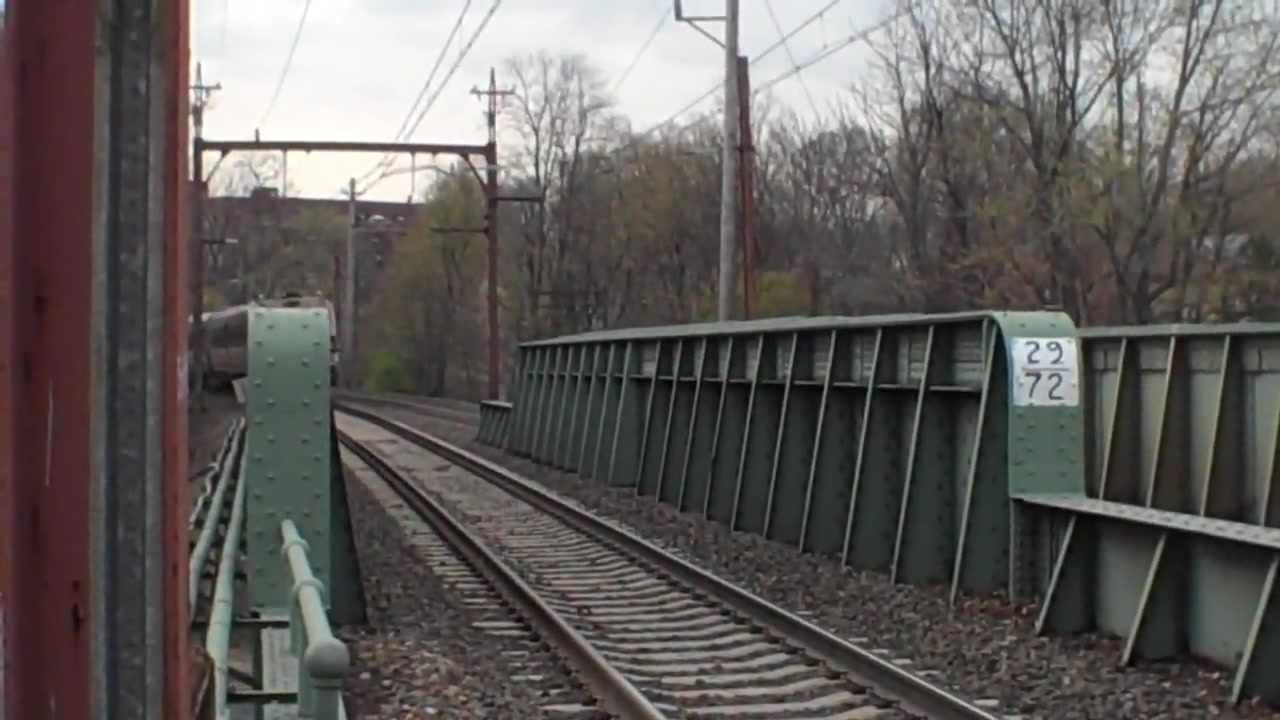train: (189, 289, 341, 396)
